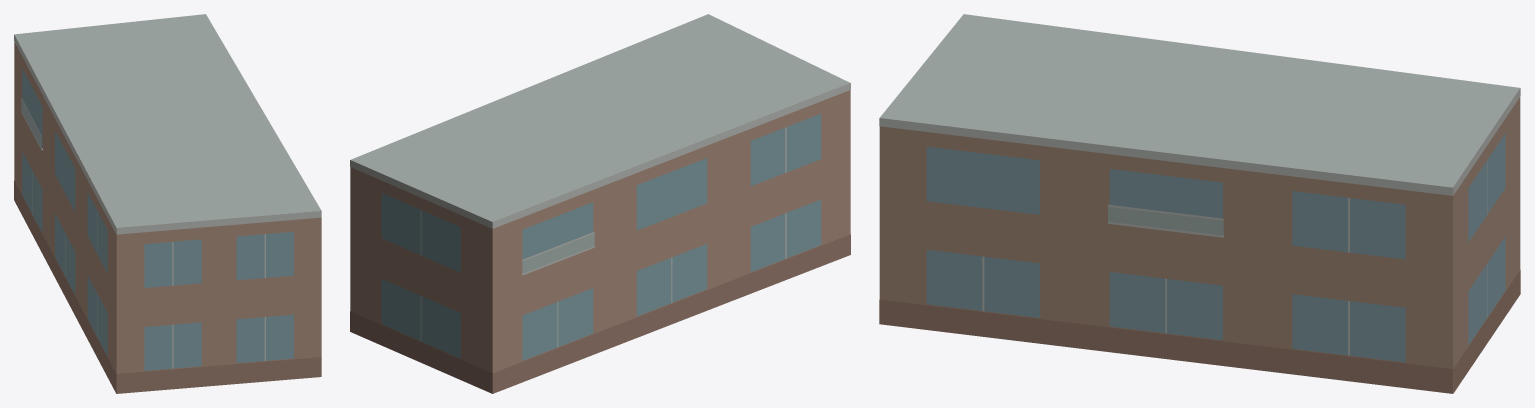
The model's file is survey-upis-32699204.glb.
3 renders of one model, left to right at view 1: azimuth 30°, elevation 25°; view 2: azimuth 150°, elevation 25°; view 3: azimuth 270°, elevation 25°, orthographic. The views are drawn at different scales.
Parts seen in each view (by area): view 1: survey-upis-32699204.tmp; view 2: survey-upis-32699204.tmp; view 3: survey-upis-32699204.tmp.
Part boxes in pixels (<box>): survey-upis-32699204.tmp: <box>14,14,321,393</box>; survey-upis-32699204.tmp: <box>350,14,850,393</box>; survey-upis-32699204.tmp: <box>879,14,1520,393</box>.
Bounding box in the file's own units: 11.03 × 6.1 × 17.2.
